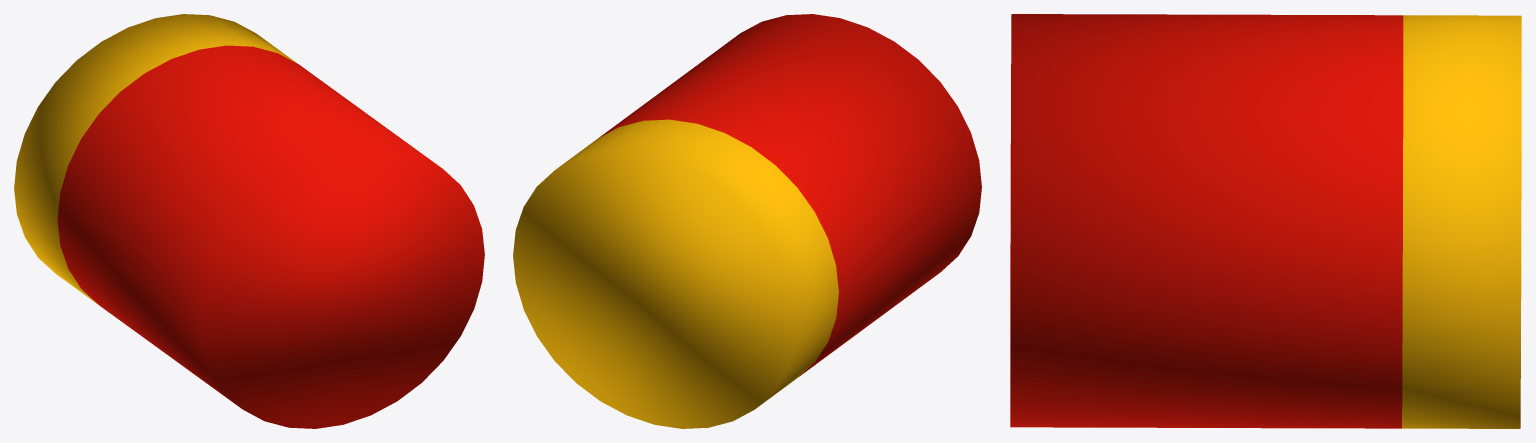
File: Battle Plan Shotgun Bullet.fbx
3 views of the same model, side by side, from view 1: azimuth 30°, elevation 25°; view 2: azimuth 150°, elevation 25°; view 3: azimuth 270°, elevation 25° (orthographic). The views are drawn at different scales.
Parts seen in each view (by area): view 1: Cylinder; view 2: Cylinder; view 3: Cylinder.
Boxes of the visible parts, <box> form: Cylinder: <box>14,14,484,428</box>; Cylinder: <box>513,14,981,428</box>; Cylinder: <box>1010,14,1521,428</box>.
Size of the model in its own units: 175 by 160 by 201.
